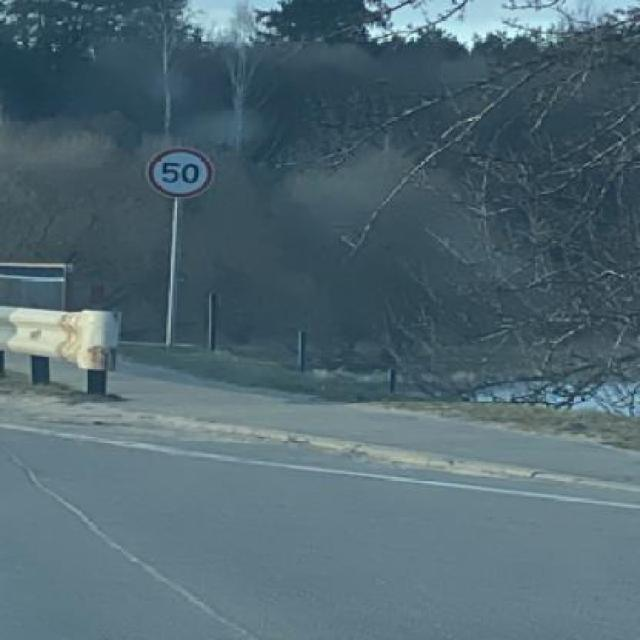Speed limit 50: (144, 144, 216, 203)
